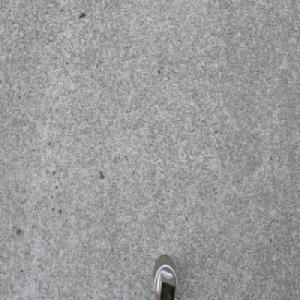MetalPart: (151, 253, 178, 300)
